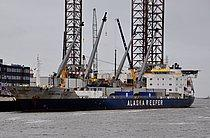Ship: (1, 59, 204, 116)
